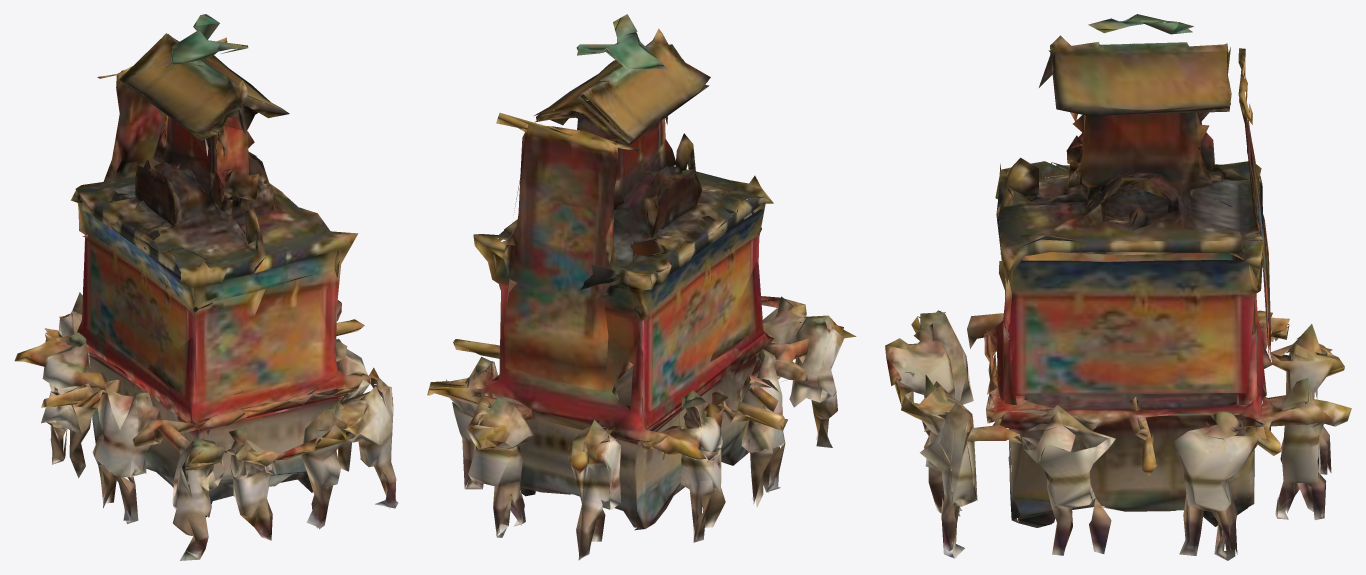
File: 蟷螂山.glb
3 renders of one model, left to right at view 1: azimuth 30°, elevation 25°; view 2: azimuth 150°, elevation 25°; view 3: azimuth 270°, elevation 25°, orthographic. The views are drawn at different scales.
Parts seen in each view (by area): view 1: Mesh1.0; view 2: Mesh1.0; view 3: Mesh1.0, Mesh1.001.
Part boxes in pixels (x1,y1,x2,y2): Mesh1.0: (14,14,398,560); Mesh1.0: (427,14,856,560); Mesh1.0: (885,14,1351,560); Mesh1.001: (999,260,1260,395).
Size of the model in its own units: 3.79 by 4.94 by 4.29.
1 material, 1 textured.
